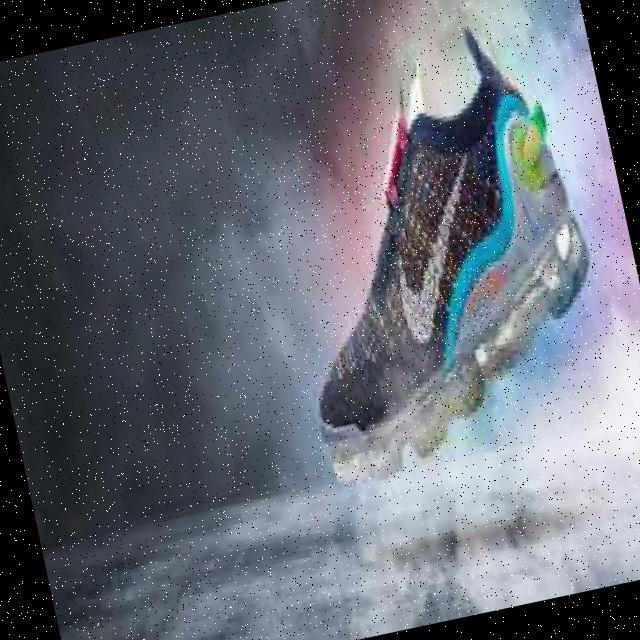Nike: (368, 143, 504, 346)
